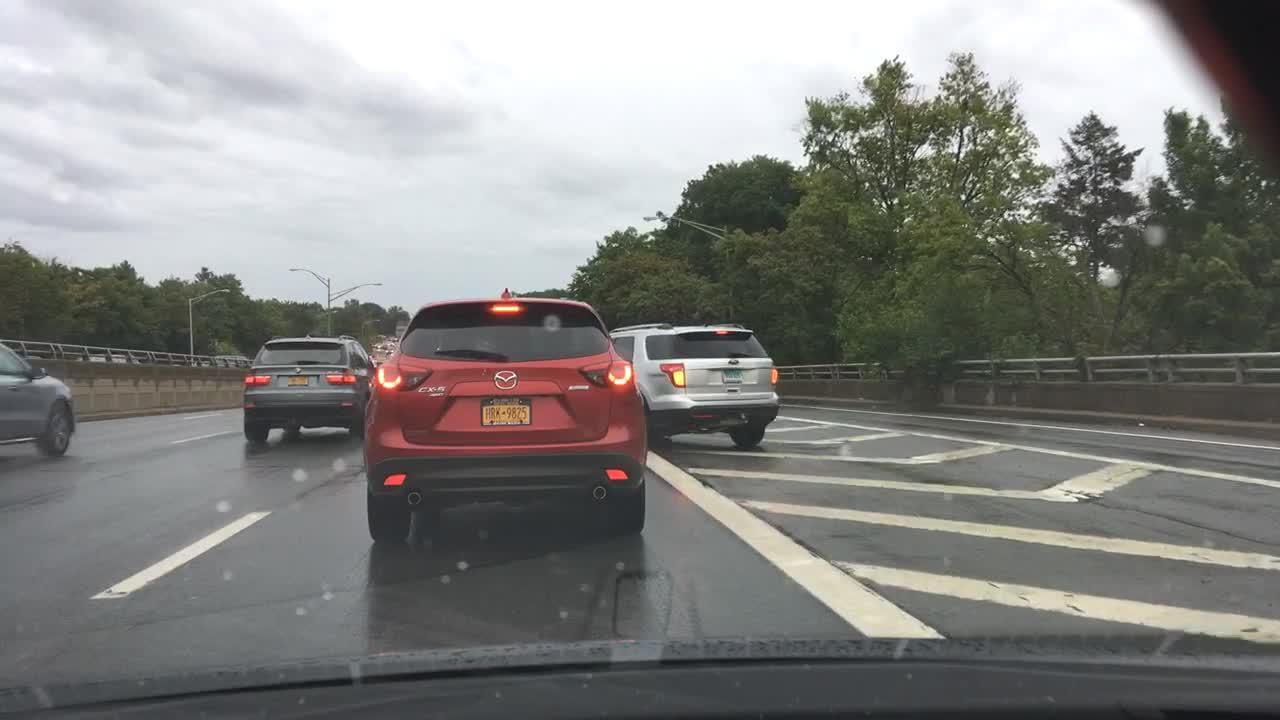Mazda: (484, 363, 530, 400)
bmw: (289, 363, 306, 376)
ford: (727, 354, 744, 369)
